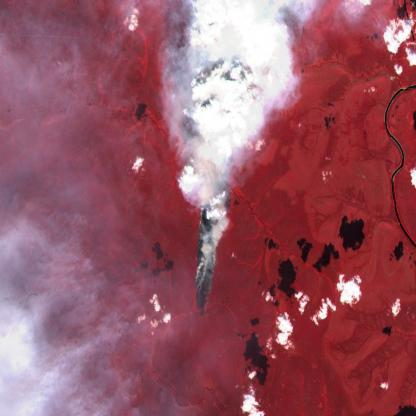fire: (190, 166, 230, 322)
